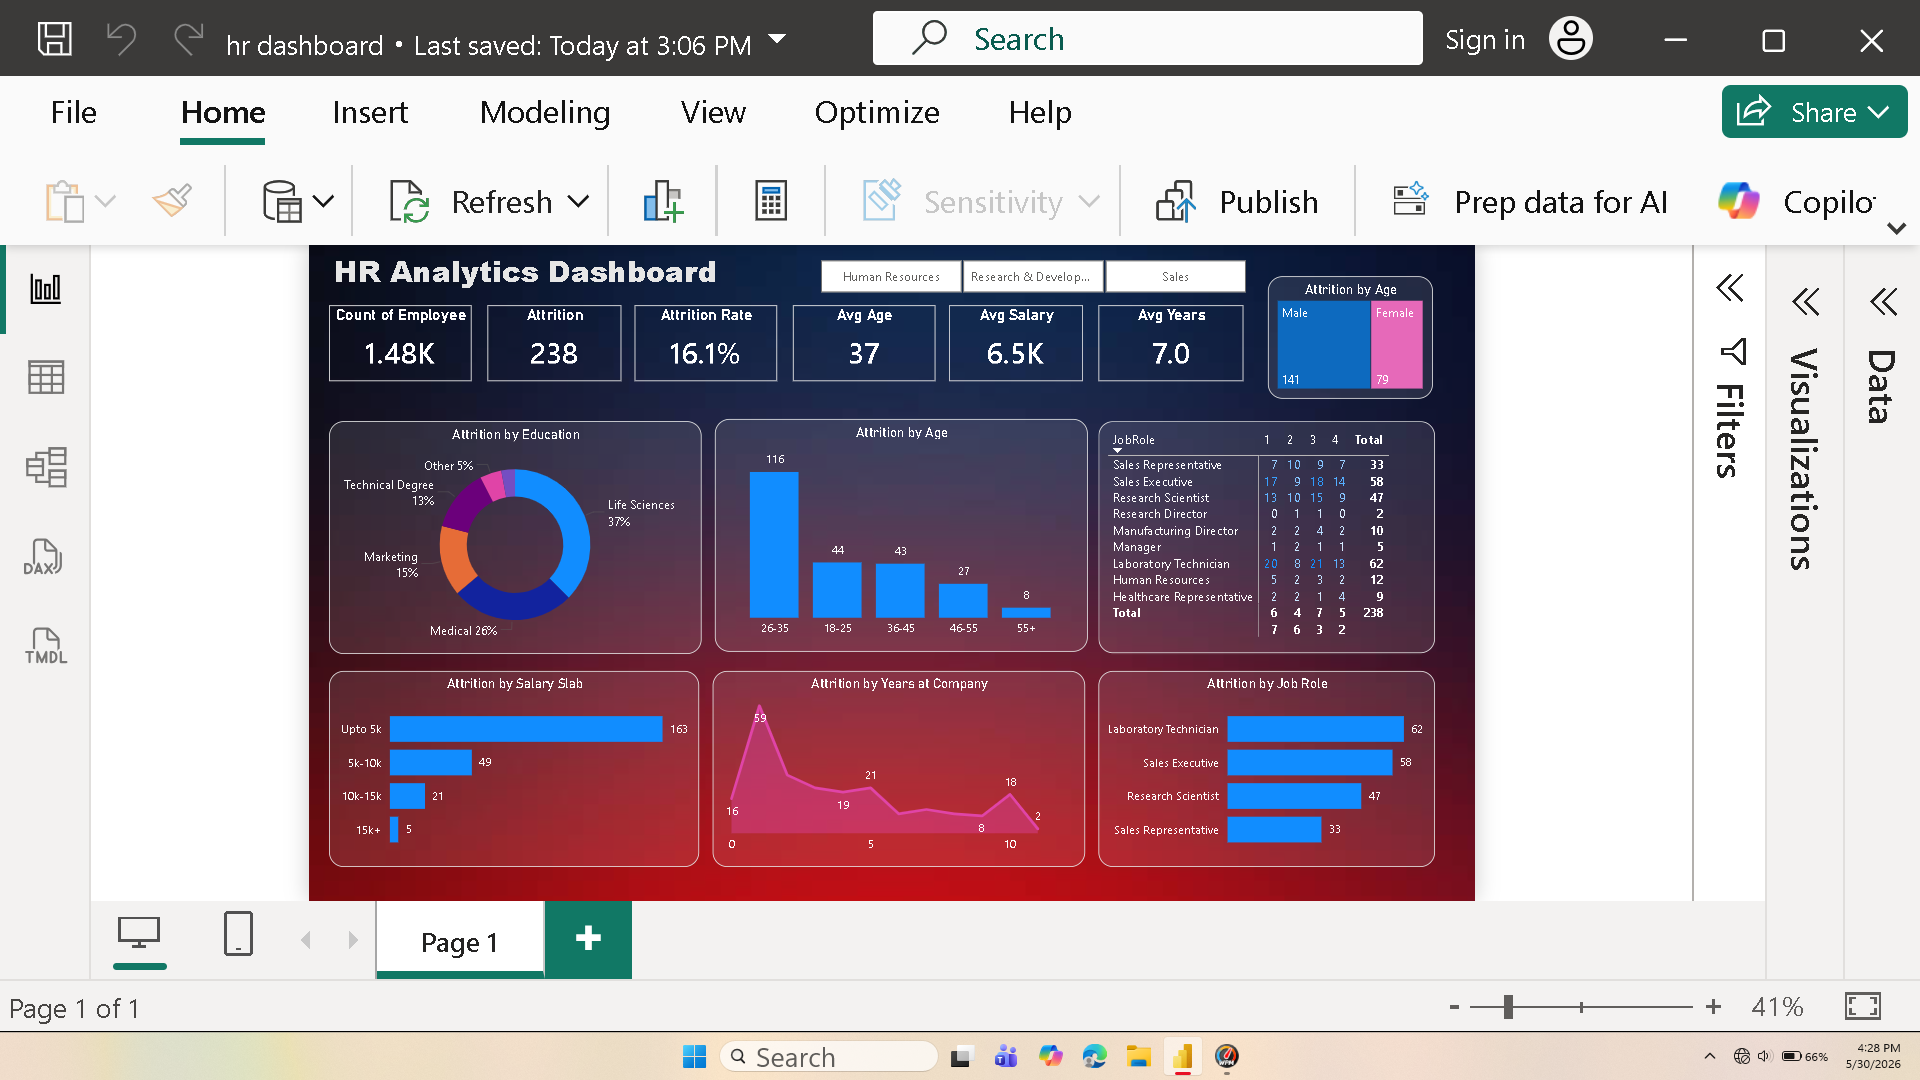

The dashboard page shown, as its layout file describes it:
{"tool":"powerbi","page":{"name":"Page 1","canvas":[1280,720],"ordinal":0},"visuals":[{"type":"cardVisual","title":"Attrition","fields":{"Data":["Sum(HR_Analytics.AttritionCount)"]},"box":[194.9,66.1,146.9,83.2],"z":0},{"type":"cardVisual","title":"Attrition Rate","fields":{"Data":["HR_Analytics.AttritionRate"]},"box":[357.9,66.1,156.7,83.2],"z":1000},{"type":"cardVisual","title":"Avg Age","fields":{"Data":["Avg(HR_Analytics.Age)"]},"box":[530.7,66.1,156.7,83.2],"z":2000},{"type":"cardVisual","title":"Avg Salary","fields":{"Data":["Avg(HR_Analytics.MonthlyIncome)"]},"box":[703.6,66.1,146.9,83.2],"z":3000},{"type":"cardVisual","title":"Avg Years","fields":{"Data":["Avg(HR_Analytics.YearsAtCompany)"]},"box":[866.6,66.1,159.1,83.2],"z":4000},{"type":"donutChart","title":"Attrition by Education","fields":{"Category":["HR_Analytics.EducationField"],"Y":["Sum(HR_Analytics.AttritionCount)"]},"box":[21,192.4,408.8,255.5],"z":5000},{"type":"columnChart","title":"Attrition by Age","fields":{"Category":["HR_Analytics.AgeGroup"],"Y":["Sum(HR_Analytics.AttritionCount)"]},"box":[446.3,190.8,409.4,255.5],"z":6000},{"type":"pivotTable","fields":{"Rows":["HR_Analytics.JobRole"],"Values":["Sum(HR_Analytics.AttritionCount)"],"Columns":["HR_Analytics.JobSatisfaction"]},"box":[866.6,193.4,369.7,254.6],"z":7000},{"type":"barChart","title":"Attrition by Salary Slab","fields":{"Category":["HR_Analytics.SalarySlab"],"Y":["Sum(HR_Analytics.AttritionCount)"]},"box":[22,467.6,406.4,215.4],"z":8000},{"type":"barChart","title":"Attrition by Job Role","fields":{"Y":["Sum(HR_Analytics.AttritionCount)"],"Category":["HR_Analytics.JobRole"]},"box":[866.6,467.6,369.7,215.4],"z":9000},{"type":"areaChart","title":"Attrition by Years at Company","fields":{"Category":["HR_Analytics.YearsAtCompany"],"Y":["Sum(HR_Analytics.AttritionCount)"]},"box":[443.1,467.6,408.8,215.4],"z":10000},{"type":"textbox","box":[22,0,533.7,66.1],"z":11000},{"type":"treemap","title":"Attrition by Age","fields":{"Group":["HR_Analytics.Gender"],"Values":["Sum(HR_Analytics.AttritionCount)"]},"box":[1052.7,34.3,181.2,134.6],"z":12000},{"type":"cardVisual","title":"Count of Employee","fields":{"Data":["CountNonNull(HR_Analytics.EmpID)"]},"box":[22,66.1,156.7,83.2],"z":13000},{"type":"slicer","fields":{"Values":["HR_Analytics.Department"]},"box":[536.1,9.8,516.5,49],"z":14000}]}

Visuals, with their boxes on the page's 1280x720 design canvas (x1, y1, x2, y2). These are canvas units, not pixel positions in the 1920x1080 screenshot, which may show the page scaled, cropped or inside an application window:
"Attrition" cardVisual: [left=195, top=66, right=342, bottom=149]
"Attrition Rate" cardVisual: [left=358, top=66, right=515, bottom=149]
"Avg Age" cardVisual: [left=531, top=66, right=687, bottom=149]
"Avg Salary" cardVisual: [left=704, top=66, right=850, bottom=149]
"Avg Years" cardVisual: [left=867, top=66, right=1026, bottom=149]
"Attrition by Education" donutChart: [left=21, top=192, right=430, bottom=448]
"Attrition by Age" columnChart: [left=446, top=191, right=856, bottom=446]
pivotTable - HR_Analytics.JobRole x Sum(HR_Analytics.AttritionCount): [left=867, top=193, right=1236, bottom=448]
"Attrition by Salary Slab" barChart: [left=22, top=468, right=428, bottom=683]
"Attrition by Job Role" barChart: [left=867, top=468, right=1236, bottom=683]
"Attrition by Years at Company" areaChart: [left=443, top=468, right=852, bottom=683]
textbox: [left=22, top=0, right=556, bottom=66]
"Attrition by Age" treemap: [left=1053, top=34, right=1234, bottom=169]
"Count of Employee" cardVisual: [left=22, top=66, right=179, bottom=149]
slicer - HR_Analytics.Department: [left=536, top=10, right=1053, bottom=59]
